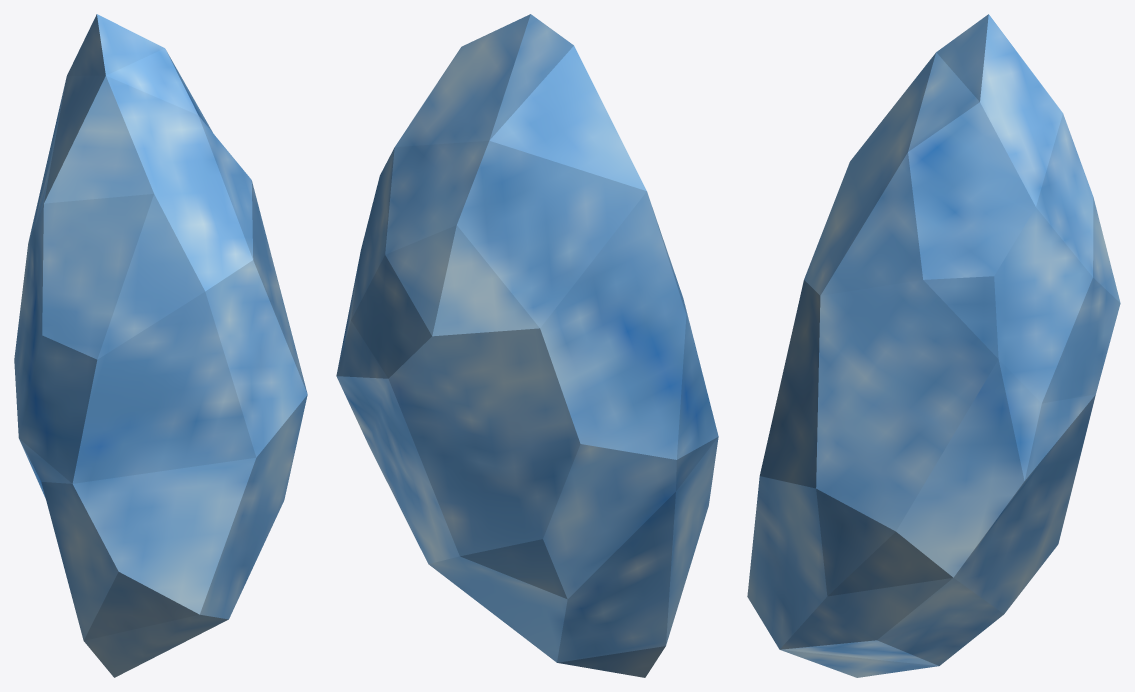
Rendered from Crystal.fbx.
3 renders of one model, left to right at view 1: azimuth 30°, elevation 25°; view 2: azimuth 150°, elevation 25°; view 3: azimuth 270°, elevation 25°, orthographic. The views are drawn at different scales.
Visible parts, largest first — view 1: Icosphere; view 2: Icosphere; view 3: Icosphere.
Boxes of the visible parts, bbox=[...] form: Icosphere: bbox=[14, 14, 307, 677]; Icosphere: bbox=[336, 14, 718, 677]; Icosphere: bbox=[747, 14, 1120, 677].
Bounding box in the file's own units: 8.88 × 19.68 × 9.69.
